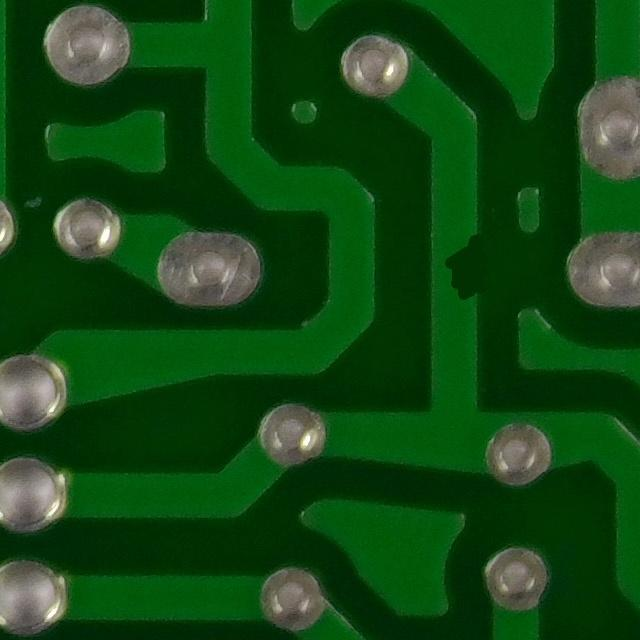mouse_bite: (414, 220, 495, 316)
